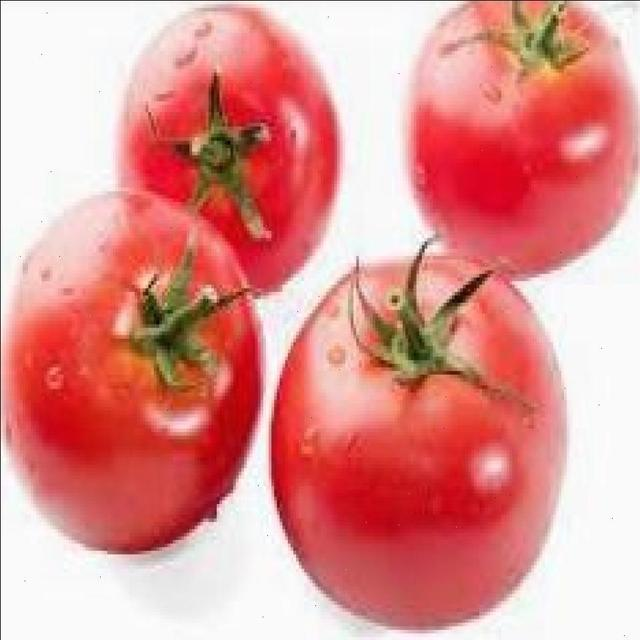Healthy Fruit: (89, 94, 346, 294)
